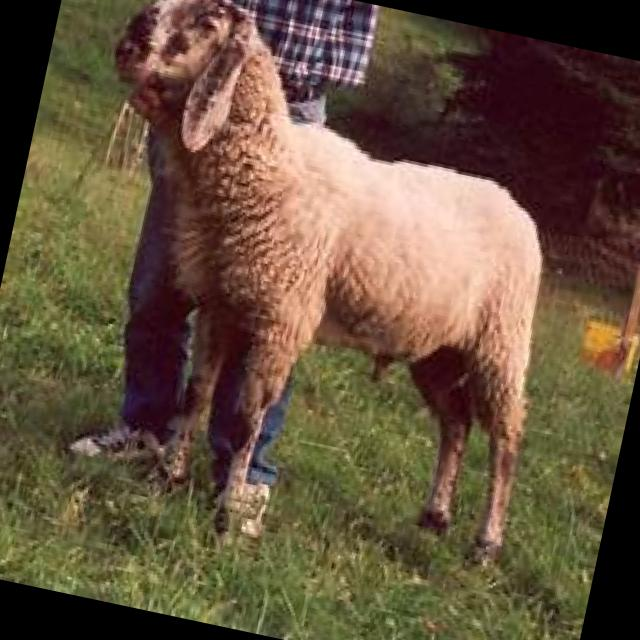animal: (21, 0, 604, 594)
